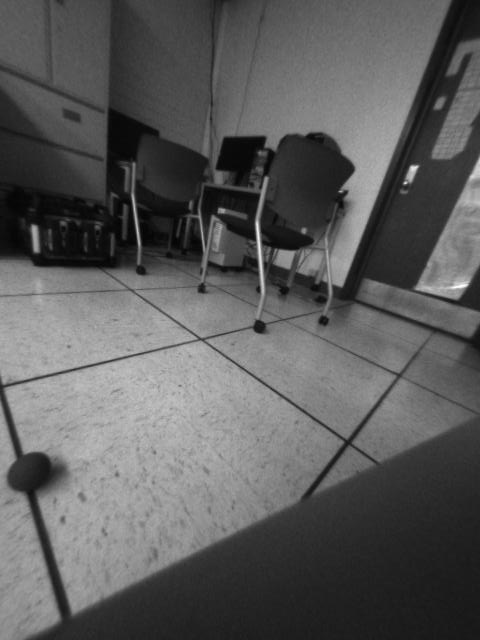dogtoy: (3, 442, 61, 496)
